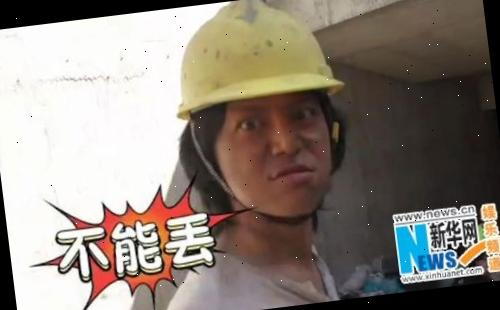helmet: (149, 0, 357, 127)
